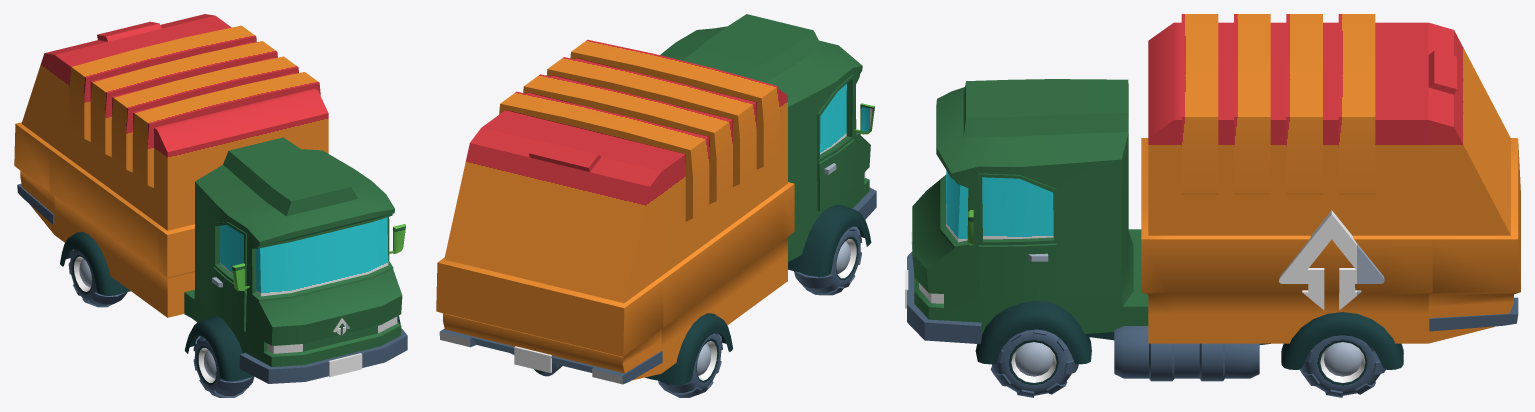
File: Camion_Amarillo.fbx
3 renders of one model, left to right at view 1: azimuth 30°, elevation 25°; view 2: azimuth 150°, elevation 25°; view 3: azimuth 270°, elevation 25°, orthographic. The views are drawn at different scales.
Visible parts, largest first — view 1: Camion_Amarillo; view 2: Camion_Amarillo; view 3: Camion_Amarillo.
Part boxes in pixels (left/top/right/bottom): Camion_Amarillo: left=14, top=14, right=407, bottom=397; Camion_Amarillo: left=436, top=14, right=876, bottom=397; Camion_Amarillo: left=905, top=14, right=1520, bottom=397.
Bounding box in the file's own units: 520 × 650 × 1251.
